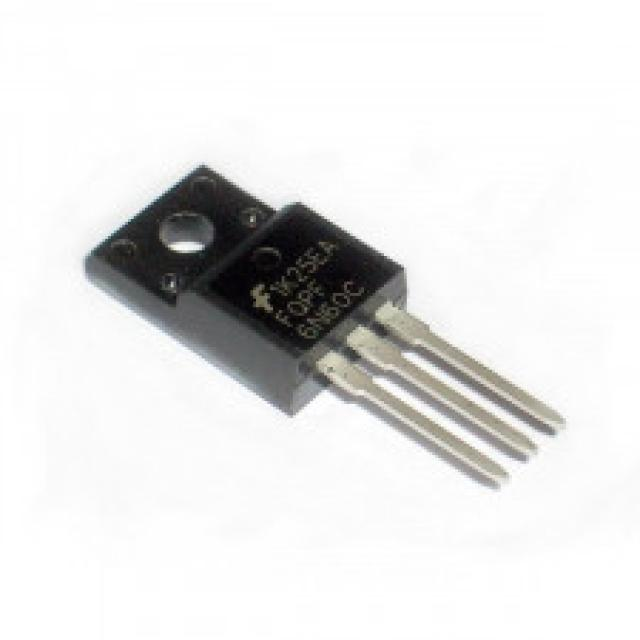Transistor: (89, 164, 568, 493)
